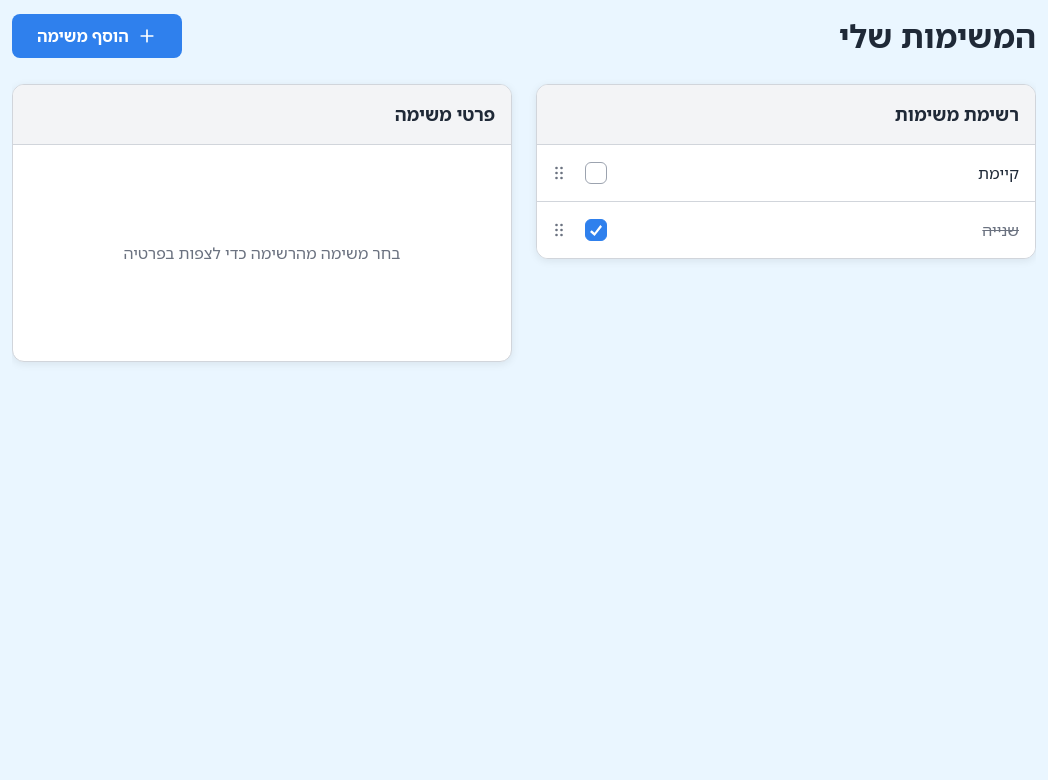
Test: HomePage – edit task details › shows editable fields with save and delete buttons for the selected task
The image size is (1048, 780).
Click the button "שנייה" at (1001, 230), box [615, 202, 1035, 258]
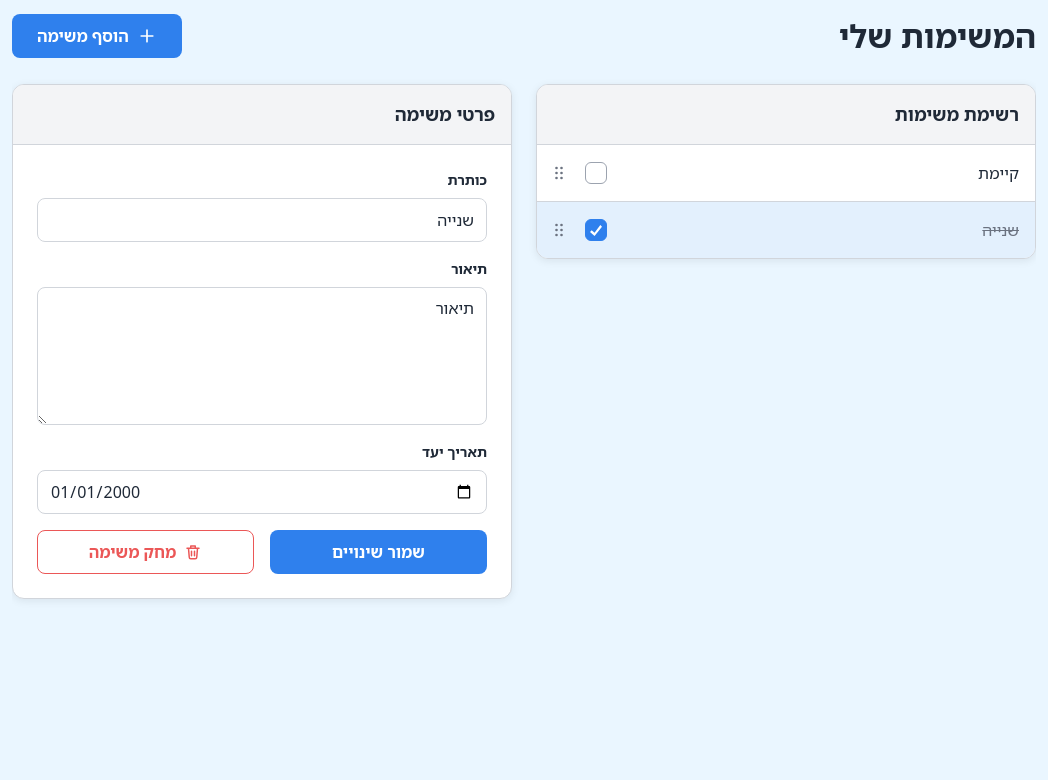
Check: the field labelled "כותרת" holds "שנייה", box [37, 198, 487, 242]
Check: the button "שמור שינויים" is enabled, box [270, 530, 487, 574]
Check: the button "מחק משימה" is enabled, box [37, 530, 254, 574]
